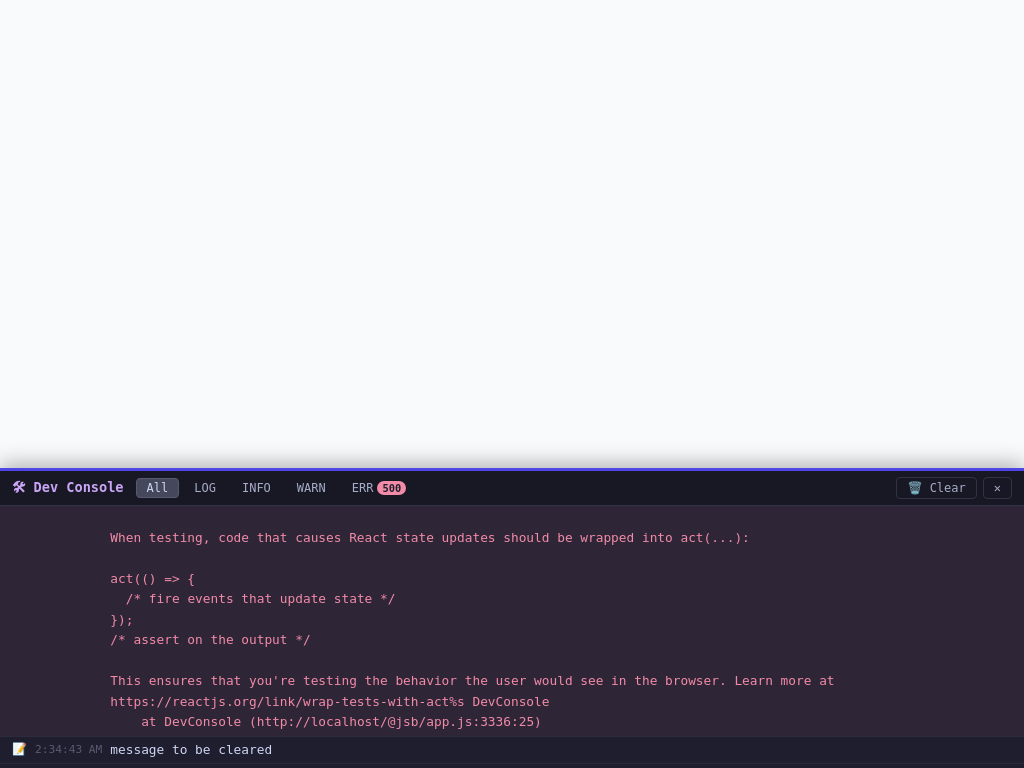
Test: DevConsole › clears entries when clear button is clicked
(page scrolled)
Expected: the text "message to be cleared" is shown, 110,742 -> 272,756
Click the button titled "Clear console" at (937, 488), box 896,477 -> 977,499
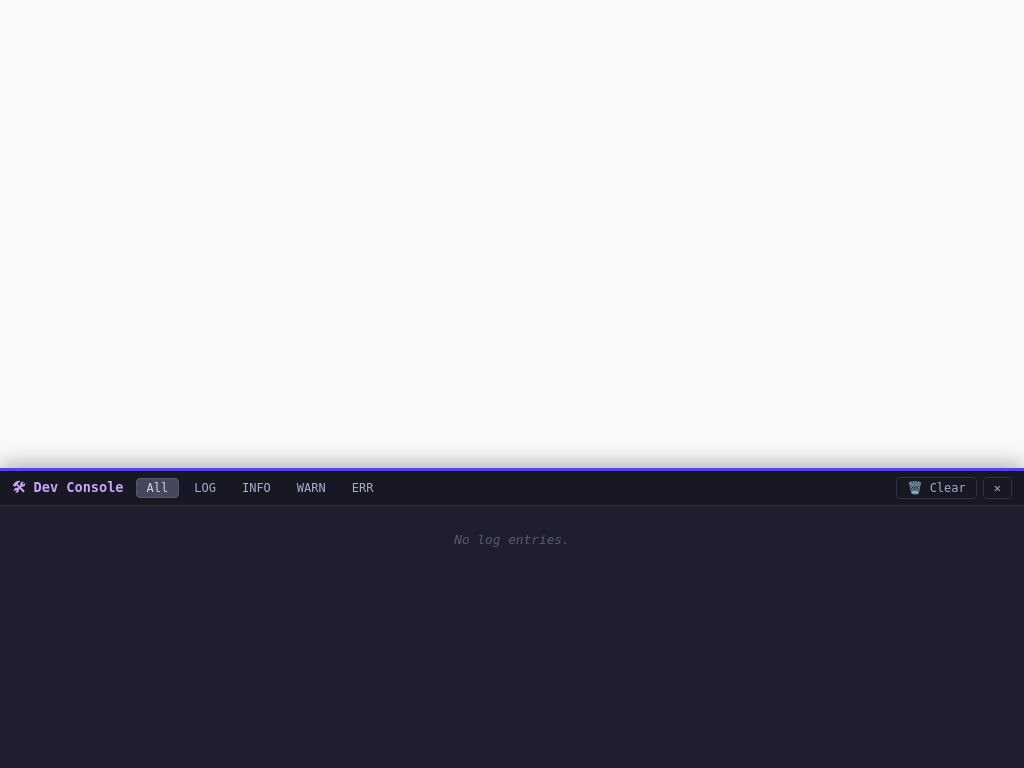
Expected: the text "message to be cleared" is gone
